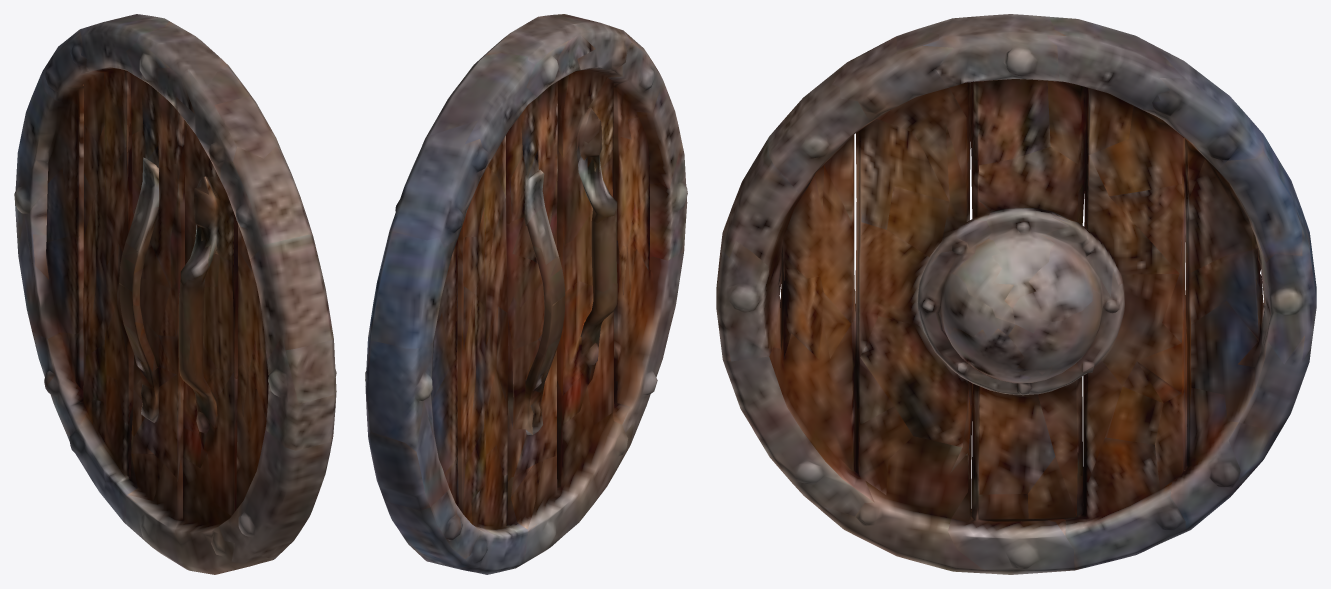
Rendered from shld_wood.glb.
3 views of the same model, side by side, from view 1: azimuth 30°, elevation 25°; view 2: azimuth 150°, elevation 25°; view 3: azimuth 270°, elevation 25° (orthographic). The views are drawn at different scales.
Visible parts, largest first — view 1: tripo_node_440a6f35-3675-4b71-bdd9-b2327636a51b; view 2: tripo_node_440a6f35-3675-4b71-bdd9-b2327636a51b; view 3: tripo_node_440a6f35-3675-4b71-bdd9-b2327636a51b.
Part boxes in pixels (<box>): tripo_node_440a6f35-3675-4b71-bdd9-b2327636a51b: <box>14,14,336,574</box>; tripo_node_440a6f35-3675-4b71-bdd9-b2327636a51b: <box>365,14,687,574</box>; tripo_node_440a6f35-3675-4b71-bdd9-b2327636a51b: <box>716,14,1316,574</box>.
Bounding box in the file's own units: 0.1381 × 0.6 × 0.6016.
1 material, 1 textured.
